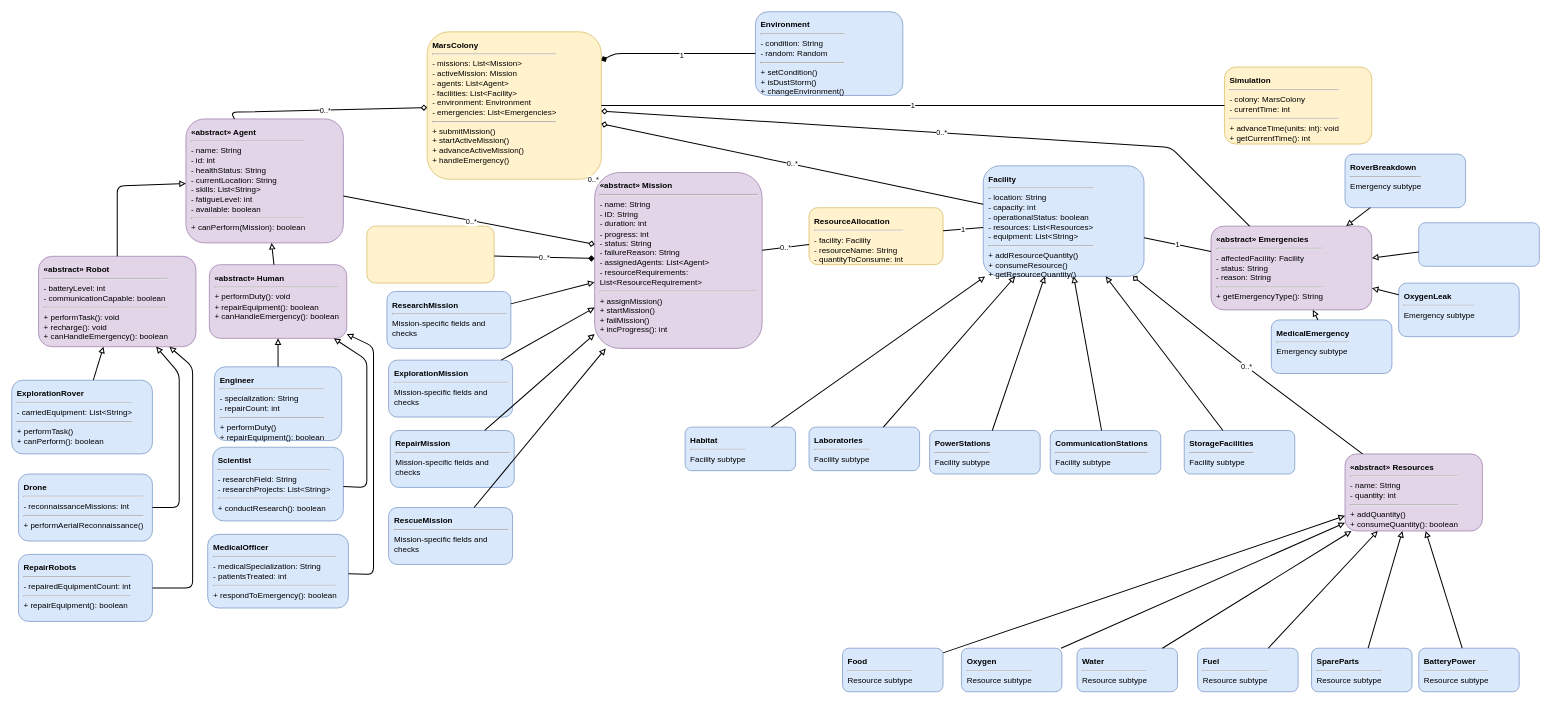
Image size: 1551x704. Some labels were removed from this diagram. The shapes that lost their labels are listed below. From the top down, each one's centre as x and y in pixels, then its label:
(x=430, y=254): ResourceRequirement - resourceName: String - requiredQuantity: int
(x=1478, y=244): Fire Emergency subtype
